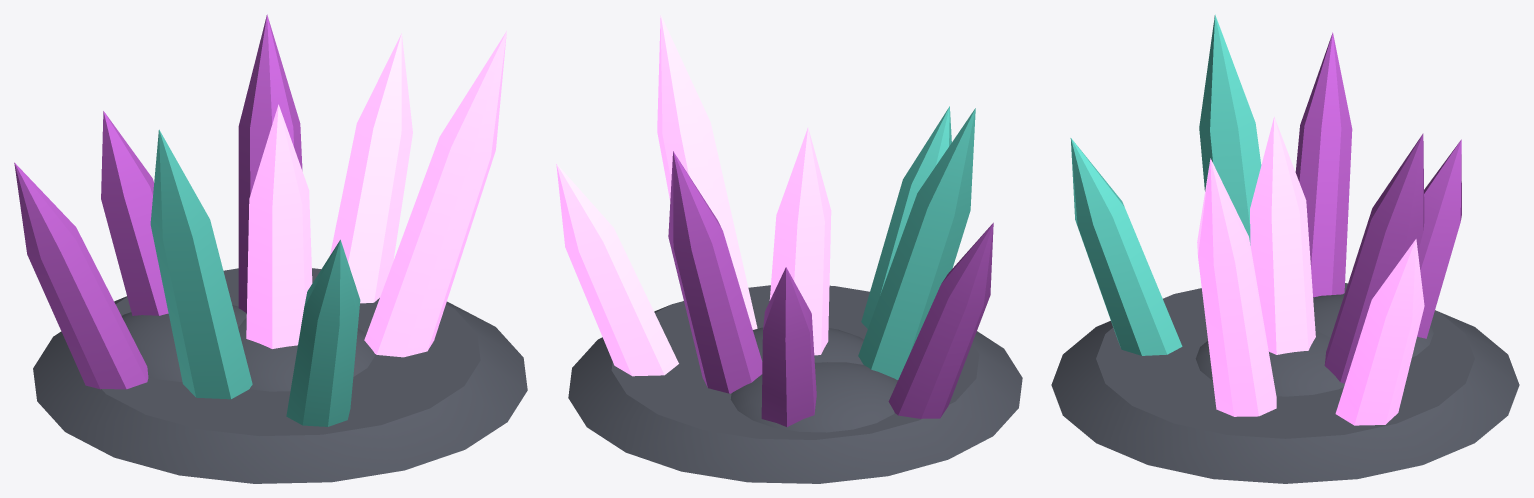
File: gem_stage_2.glb
3 renders of one model, left to right at view 1: azimuth 30°, elevation 25°; view 2: azimuth 150°, elevation 25°; view 3: azimuth 270°, elevation 25°, orthographic. The views are drawn at different scales.
Parts seen in each view (by area): view 1: Hull; view 2: Hull; view 3: Hull.
Part boxes in pixels (x1,y1,x2,y2): Hull: (14,14,527,483); Hull: (556,14,1022,483); Hull: (1051,14,1519,483).
Size of what is drawn, in the model's own units: 0.8899 by 0.6194 by 0.84.
